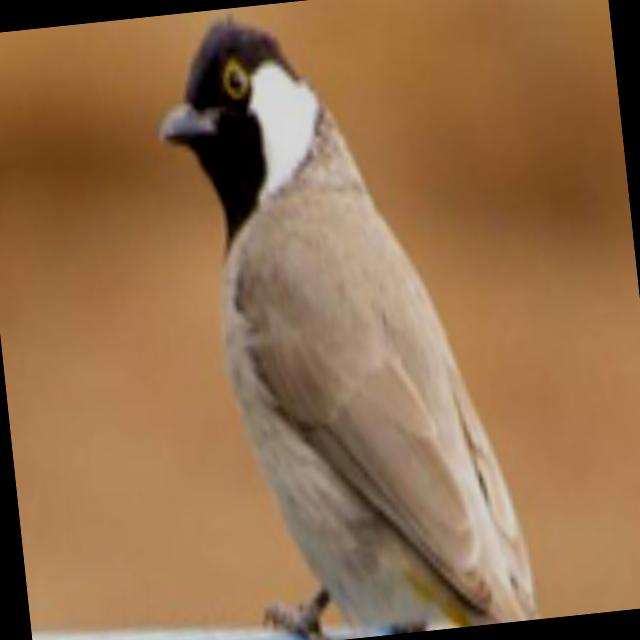bird: (143, 0, 541, 640)
